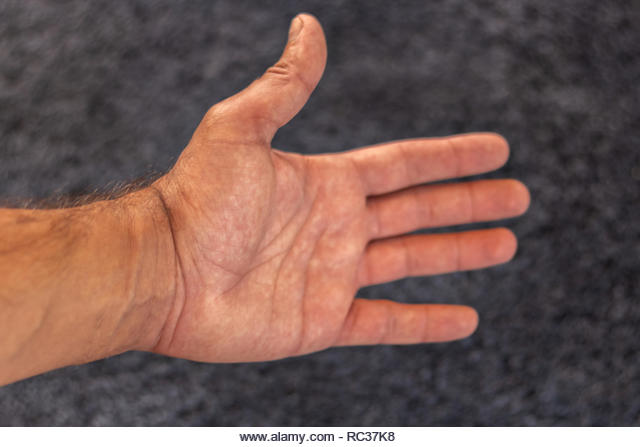hand: (122, 3, 539, 371)
